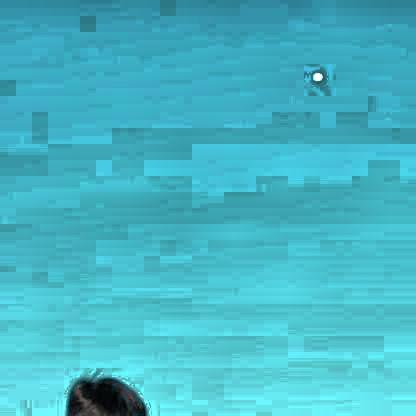golfball: (307, 67, 321, 81)
